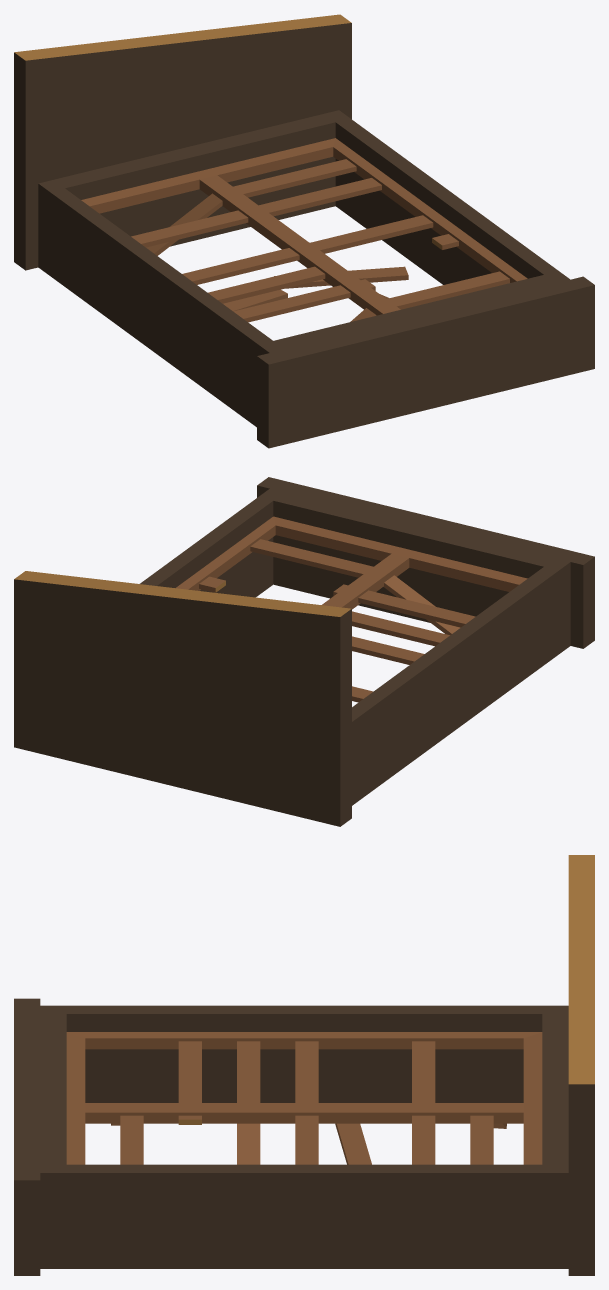
The model's file is apocalypse_bed-large-frame-broken.fbx.
3 renders of one model, top to bottom at view 1: azimuth 30°, elevation 25°; view 2: azimuth 150°, elevation 25°; view 3: azimuth 270°, elevation 25°, orthographic. The views are drawn at different scales.
Visible parts, largest first — view 1: apocalypse_bed_large_frame_broken; view 2: apocalypse_bed_large_frame_broken; view 3: apocalypse_bed_large_frame_broken.
Boxes of the visible parts, x1,y1,x2,y2 form: apocalypse_bed_large_frame_broken: (14,14,594,448); apocalypse_bed_large_frame_broken: (14,477,594,826); apocalypse_bed_large_frame_broken: (14,855,594,1275).
Size of the model in its own units: 148 by 90.96 by 200.
